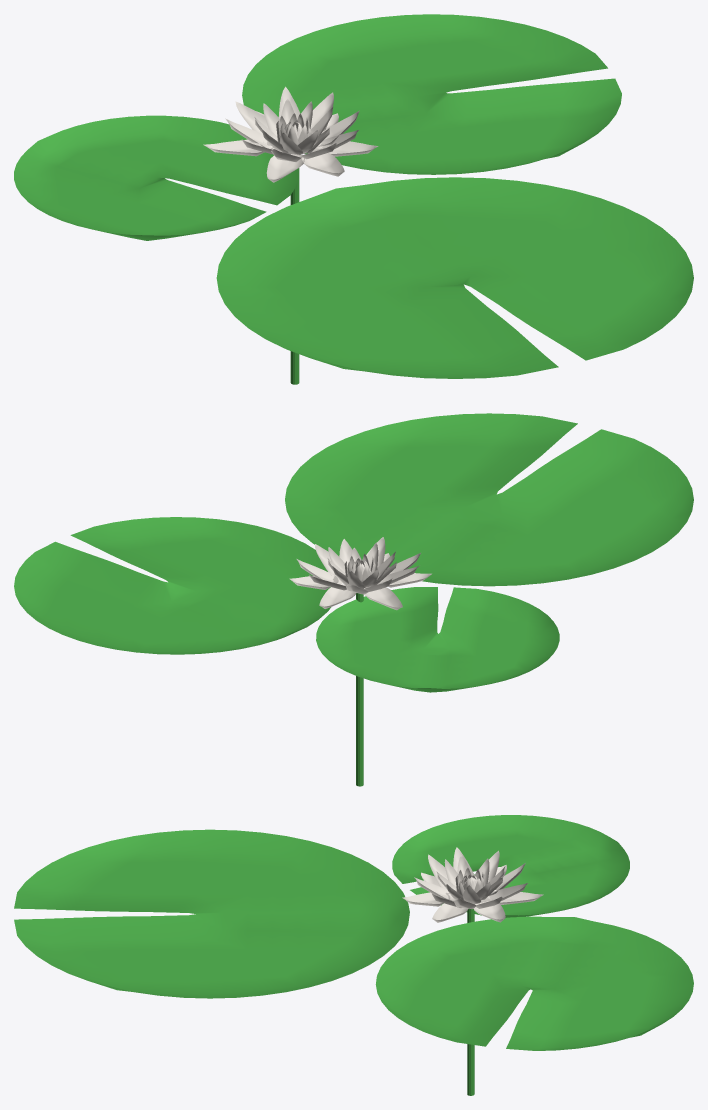
Rendered from lily.fbx.
3 views of the same model, one above another, from view 1: azimuth 30°, elevation 25°; view 2: azimuth 150°, elevation 25°; view 3: azimuth 270°, elevation 25° (orthographic). The views are drawn at different scales.
Visible parts, largest first — view 1: pad, pad2, pad1, polySurface28, polySurface3, polySurface27; view 2: pad, pad2, pad1, polySurface6; view 3: pad, pad2, pad1, polySurface6.
Boxes of the visible parts, <box> form: pad: <box>216,177,693,378</box>; pad2: <box>242,14,621,174</box>; pad1: <box>14,115,297,240</box>; polySurface28: <box>301,153,344,176</box>; polySurface3: <box>266,154,304,182</box>; polySurface27: <box>203,139,273,156</box>; pad: <box>285,413,693,586</box>; pad2: <box>14,517,331,654</box>; pad1: <box>316,587,559,692</box>; polySurface6: <box>356,593,363,786</box>; pad: <box>14,829,409,998</box>; pad2: <box>375,916,693,1050</box>; pad1: <box>392,815,629,917</box>; polySurface6: <box>467,908,474,1095</box>.
Size of the model in its own units: 2.8 by 1.24 by 3.4.
